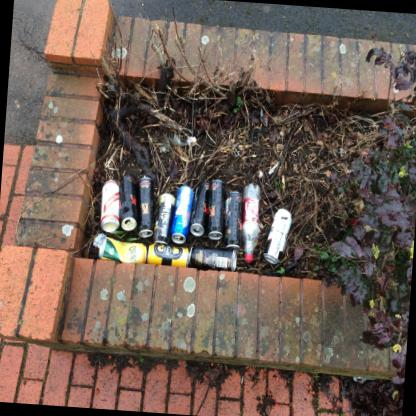Metal: (264, 209, 292, 264), (171, 186, 194, 244), (189, 245, 236, 272), (99, 237, 146, 263), (153, 194, 176, 245), (224, 191, 243, 252), (207, 180, 226, 240), (137, 177, 155, 237), (120, 174, 138, 231), (190, 182, 209, 236), (147, 243, 189, 267), (101, 180, 120, 232), (127, 221, 133, 229), (195, 227, 199, 232), (174, 237, 180, 240), (142, 233, 147, 236), (213, 234, 217, 237)
Plastic: (242, 183, 260, 264), (244, 257, 253, 263)
Waste: (94, 234, 106, 249), (169, 135, 184, 145), (160, 136, 170, 151), (269, 160, 279, 174), (186, 136, 196, 142), (241, 375, 244, 385)
